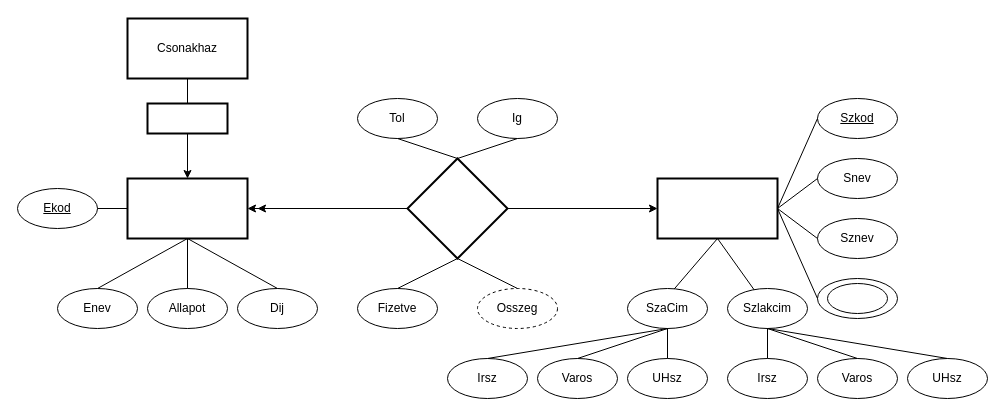
Some shapes in this 1005 by 416 pixel diagram are drawn without their labels. The shapes that lost their labels are listed below. From the top down, each one's box as (x1, y1, x2, y2) in pixels, then its label:
(146, 102, 228, 134): HAZ_A
(126, 177, 248, 239): Eszkoz
(406, 157, 508, 259): Kolcsonzes
(656, 177, 778, 239): Szemely
(826, 282, 888, 314): Tszam
